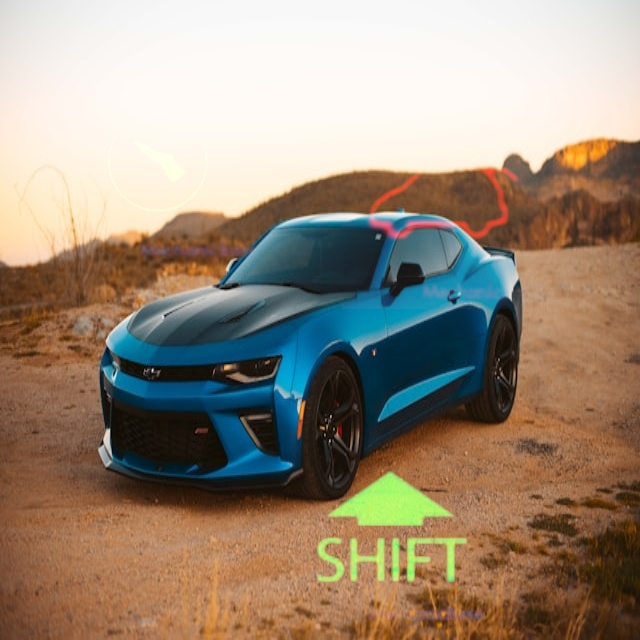symbol: (341, 101, 549, 309), (59, 60, 266, 267), (291, 430, 491, 630)
